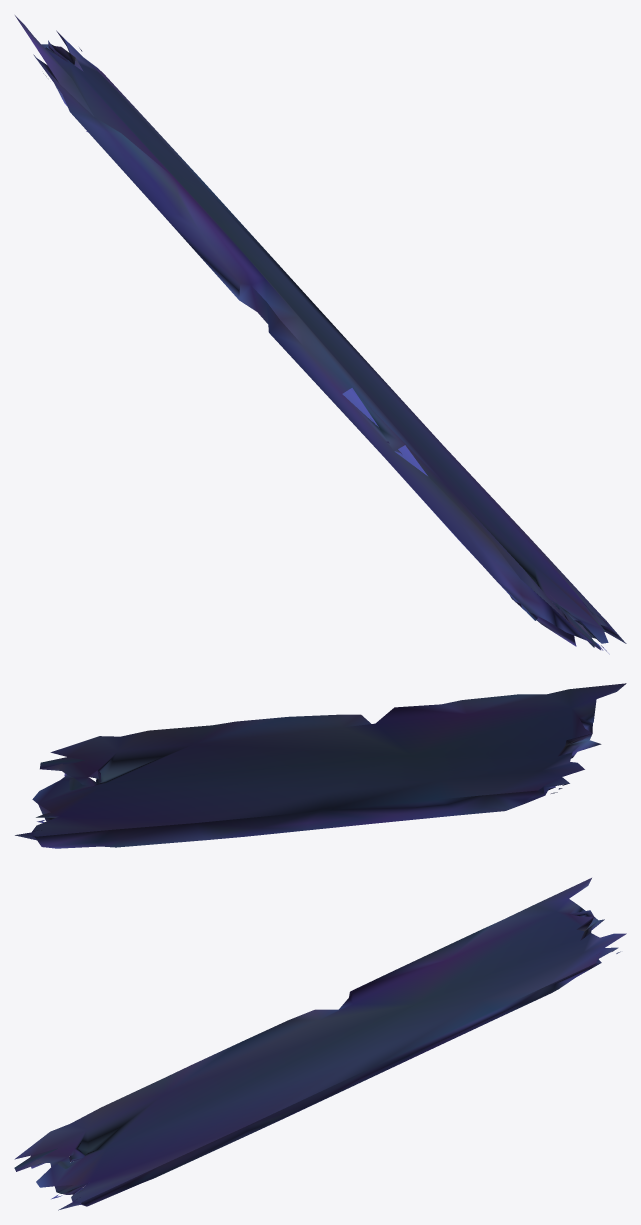
Rendered from microscopic-dust-particles-glass-shard_v1.glb.
The picture shows the model from 3 angles, top to bottom: view 1: azimuth 30°, elevation 25°; view 2: azimuth 210°, elevation 25°; view 3: azimuth 270°, elevation 25°; orthographic projection. The views are drawn at different scales.
Visible parts, largest first — view 1: Glass Shard_v1; view 2: Glass Shard_v1; view 3: Glass Shard_v1.
Boxes of the visible parts, x1,y1,x2,y2 form: Glass Shard_v1: [15, 15, 626, 654]; Glass Shard_v1: [15, 683, 626, 848]; Glass Shard_v1: [14, 878, 626, 1210].
Bounding box in the file's own units: 0.1378 × 0.241 × 0.5.
